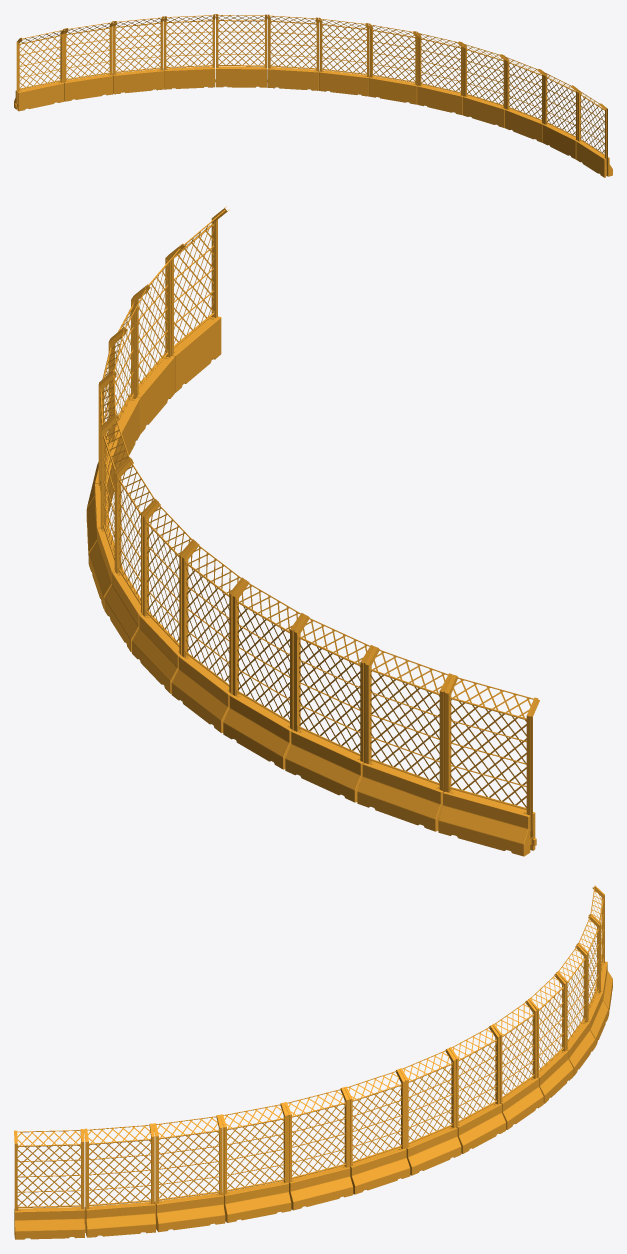
Rendered from SM_Fence_Road_Debrisguard_Net_20m_Corner_Outer.fbx.
3 renders of one model, top to bottom at view 1: azimuth 30°, elevation 25°; view 2: azimuth 150°, elevation 25°; view 3: azimuth 270°, elevation 25°, orthographic. The views are drawn at different scales.
Visible parts, largest first — view 1: SM_Fence_Road_Debrisguard_Net_20m_Corner_Outer; view 2: SM_Fence_Road_Debrisguard_Net_20m_Corner_Outer; view 3: SM_Fence_Road_Debrisguard_Net_20m_Corner_Outer.
Boxes of the visible parts, x1,y1,x2,y2 form: SM_Fence_Road_Debrisguard_Net_20m_Corner_Outer: (14,14,612,177); SM_Fence_Road_Debrisguard_Net_20m_Corner_Outer: (86,206,539,856); SM_Fence_Road_Debrisguard_Net_20m_Corner_Outer: (14,885,612,1239).
Size of the model in its own units: 21.48 by 4 by 21.38.
